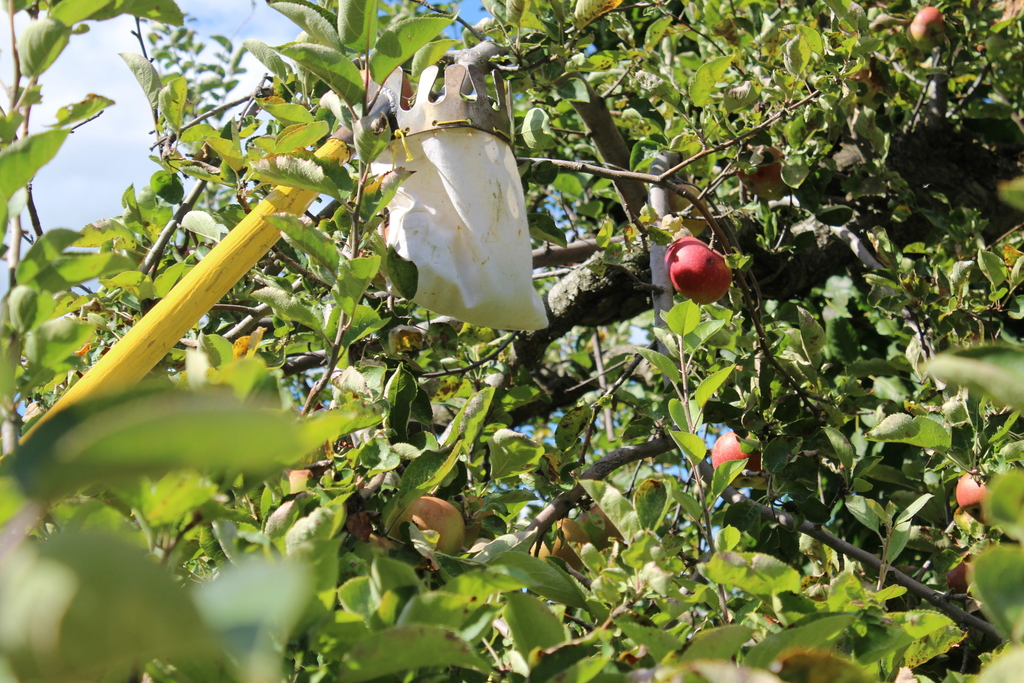Apple: (375, 495, 470, 567), (657, 237, 730, 308), (737, 144, 785, 199), (707, 426, 759, 476), (665, 183, 711, 233), (906, 6, 949, 53), (844, 69, 884, 107), (957, 469, 991, 509), (282, 468, 320, 497), (945, 555, 972, 593)
